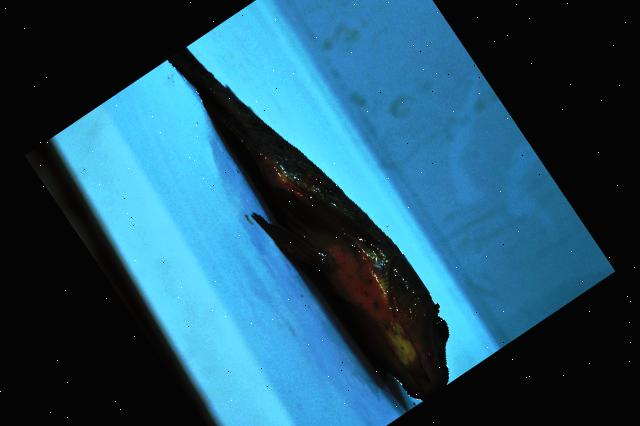Columnaris Disease: (167, 47, 448, 401)
